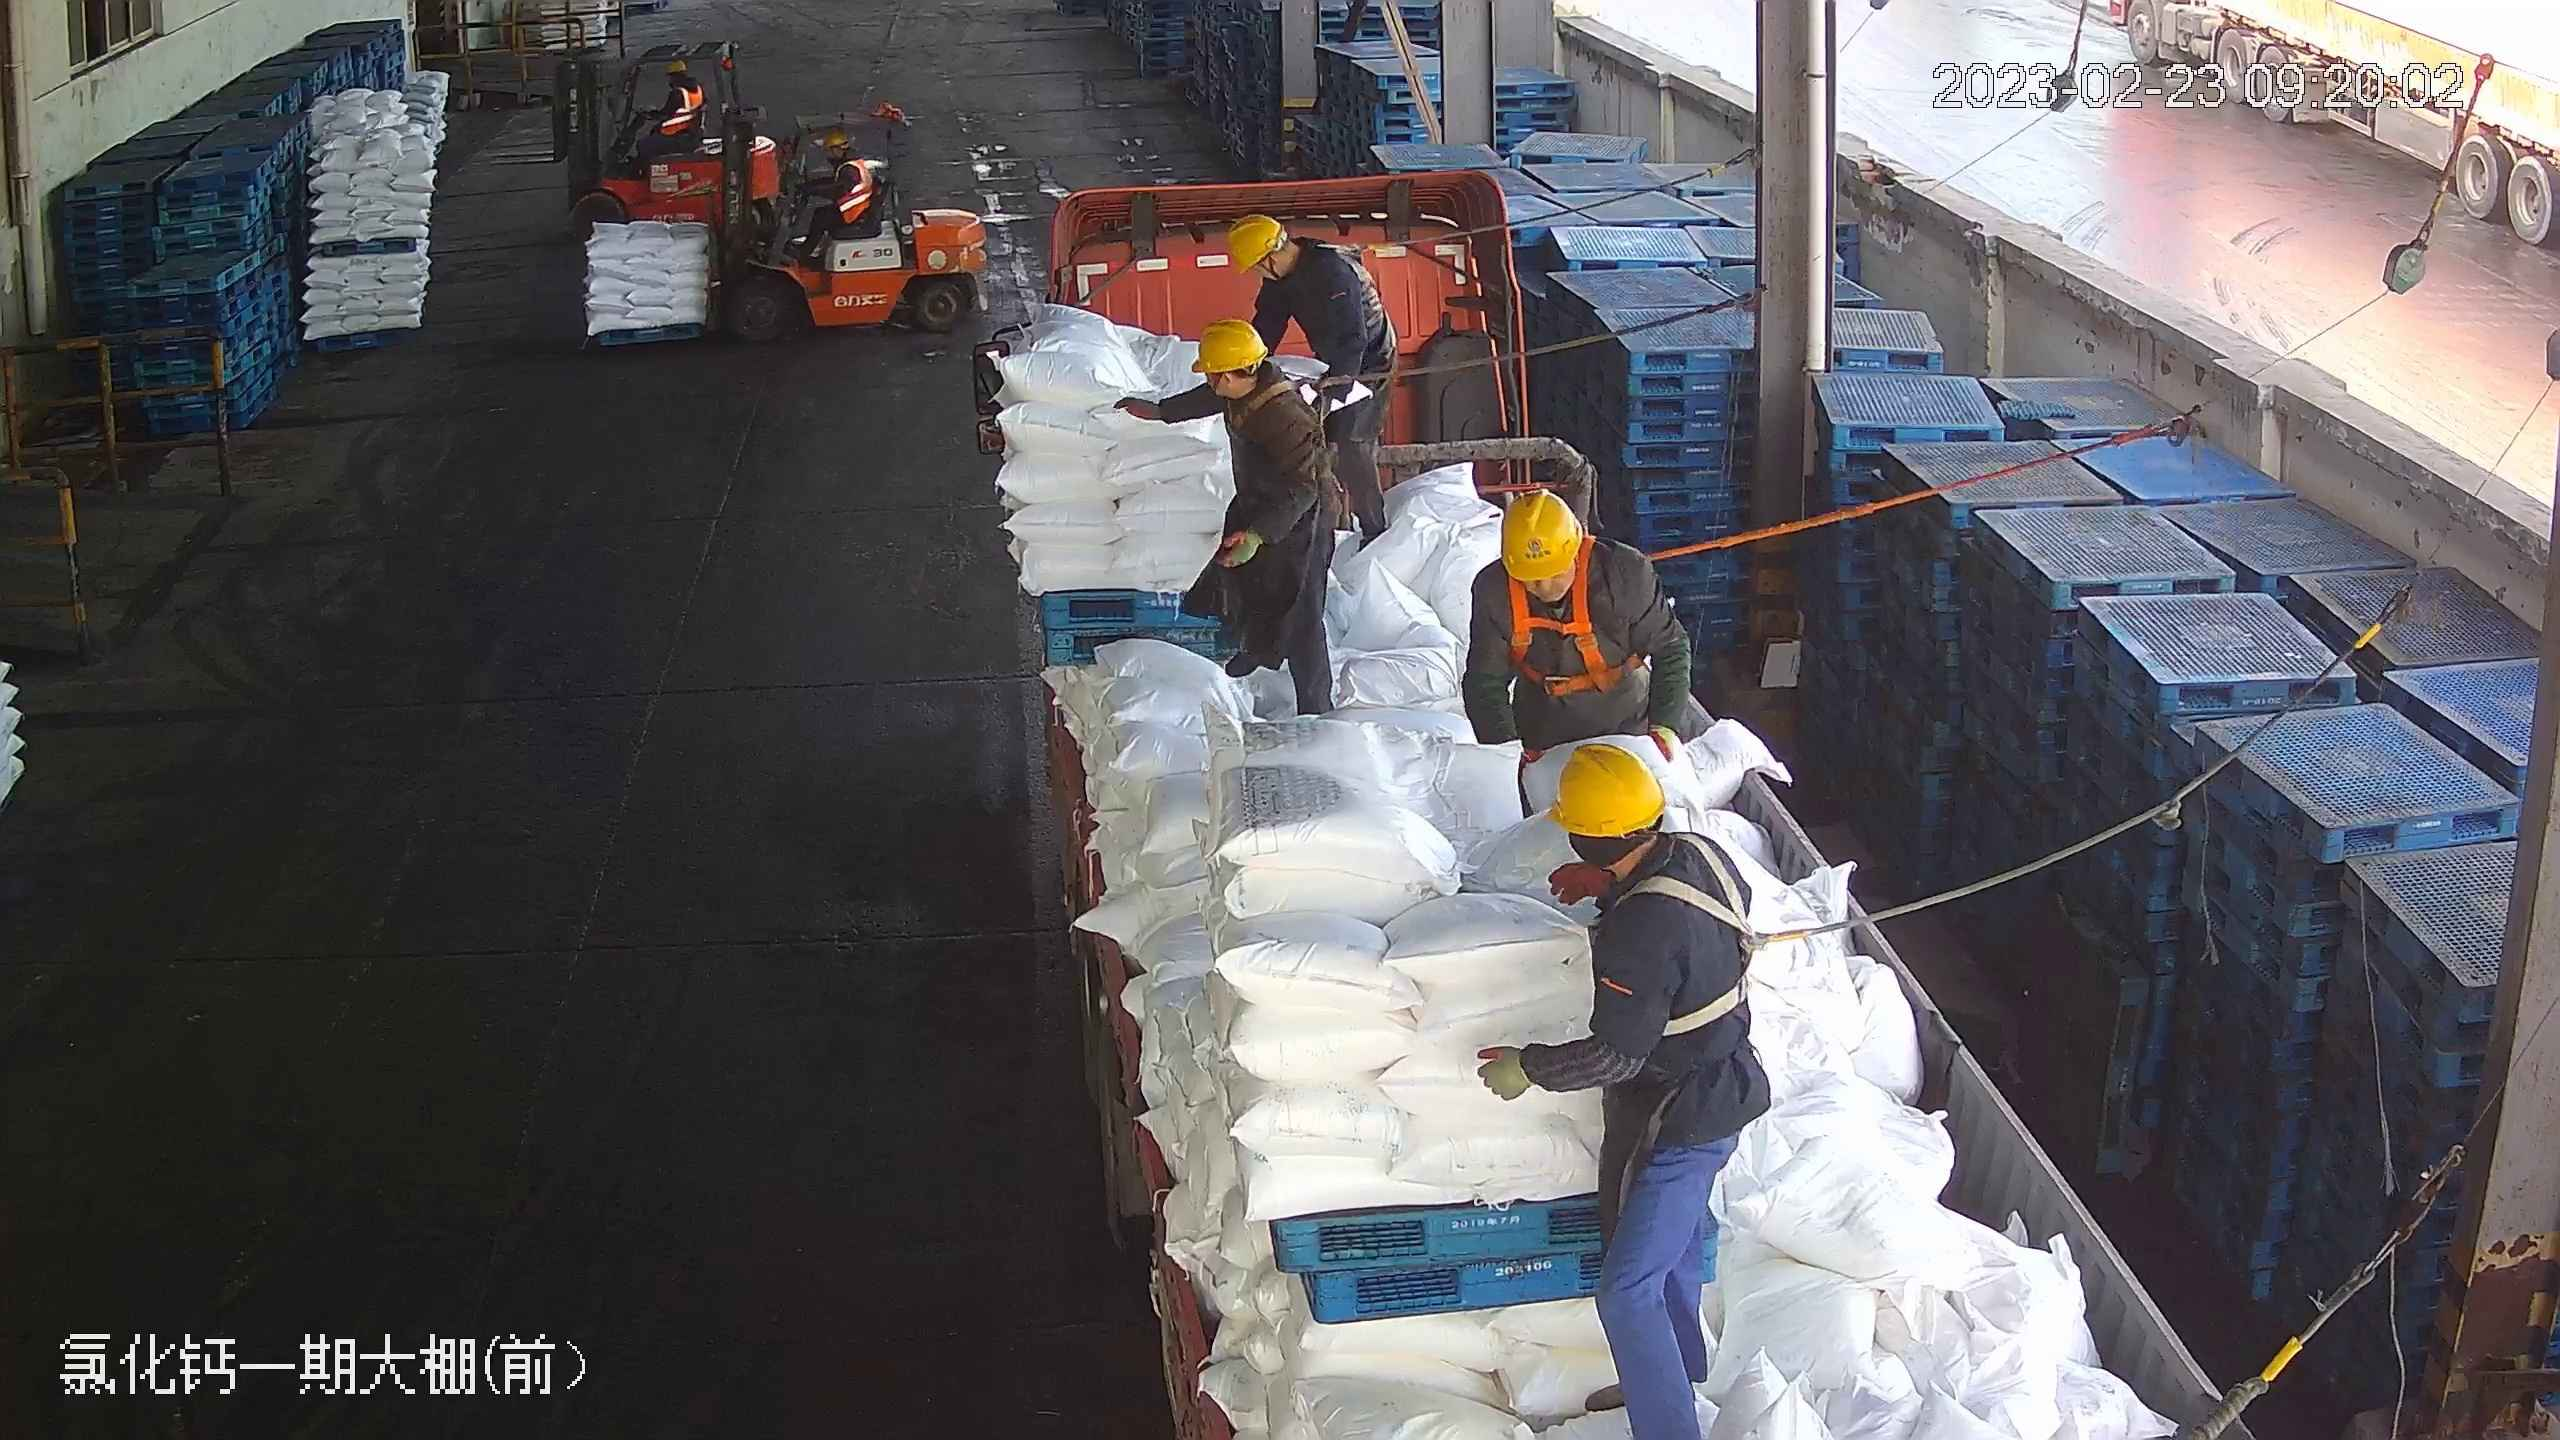belt: (1603, 837, 1805, 1033), (1510, 537, 1645, 700), (1227, 363, 1343, 459), (1306, 236, 1391, 287)
head: (1542, 735, 1748, 964), (1472, 487, 1654, 641), (1184, 319, 1308, 437), (1229, 215, 1350, 309), (816, 130, 864, 180), (658, 60, 698, 107)
helmet: (1547, 738, 1666, 837), (1497, 487, 1582, 581), (1191, 315, 1266, 373), (1226, 214, 1286, 275), (666, 57, 691, 76), (822, 128, 847, 147)
people: (1473, 735, 1776, 1436), (1112, 317, 1343, 713), (1224, 211, 1404, 546), (798, 131, 873, 250), (636, 60, 701, 157)
truck: (991, 190, 2243, 1424)
